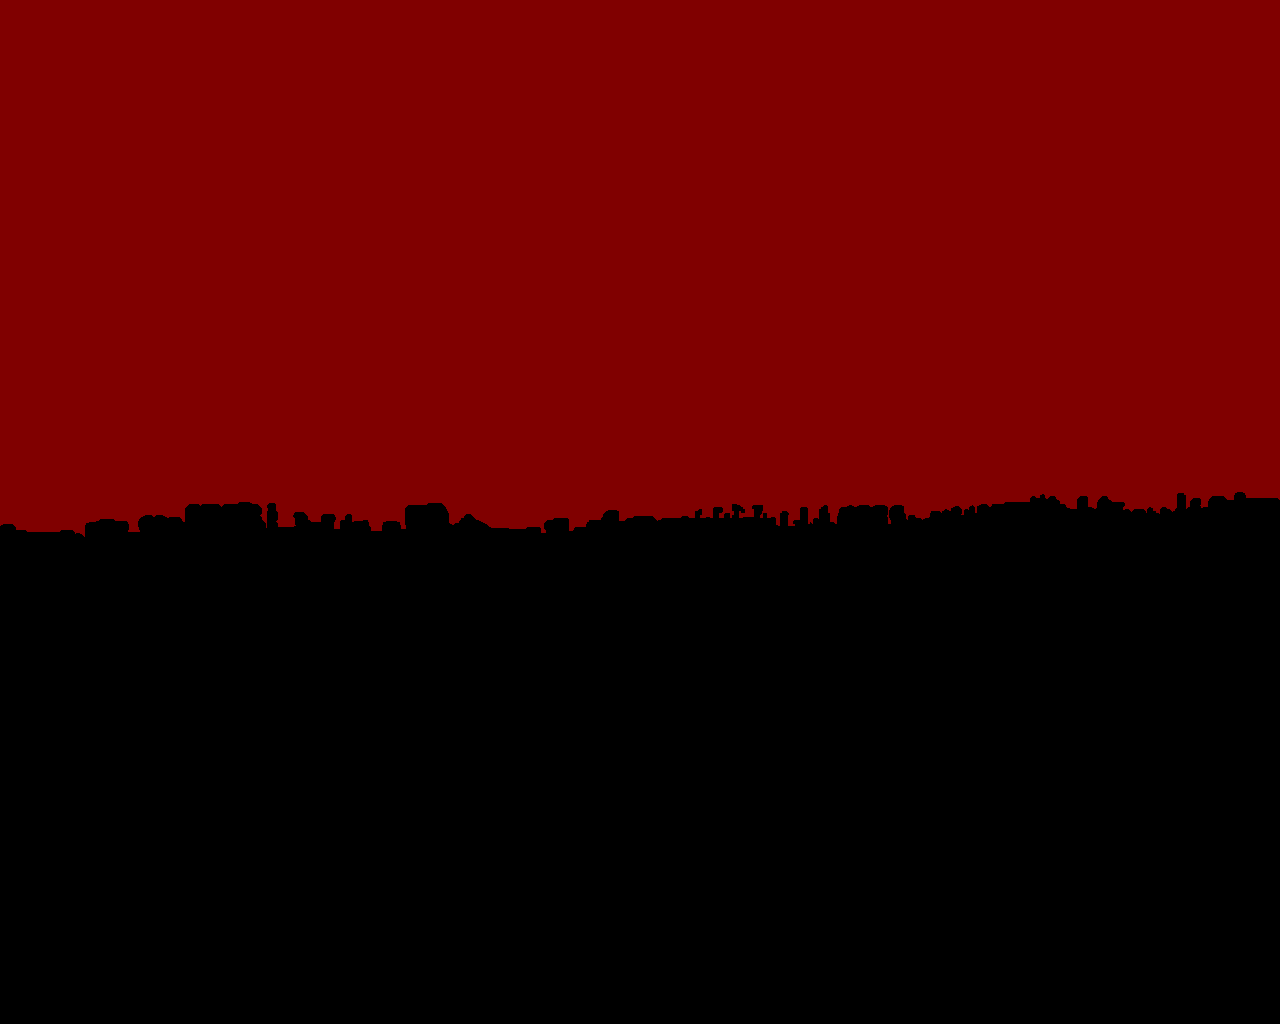Sky: (1, 1, 1279, 536)
